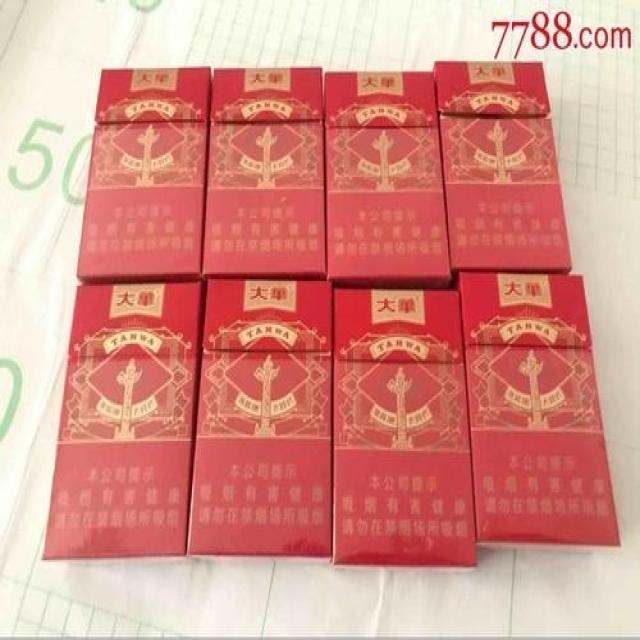box: (457, 272, 621, 546), (42, 279, 201, 558), (184, 277, 334, 557), (332, 286, 477, 567), (433, 60, 572, 272), (76, 65, 211, 283), (324, 70, 452, 286), (201, 65, 326, 279)
